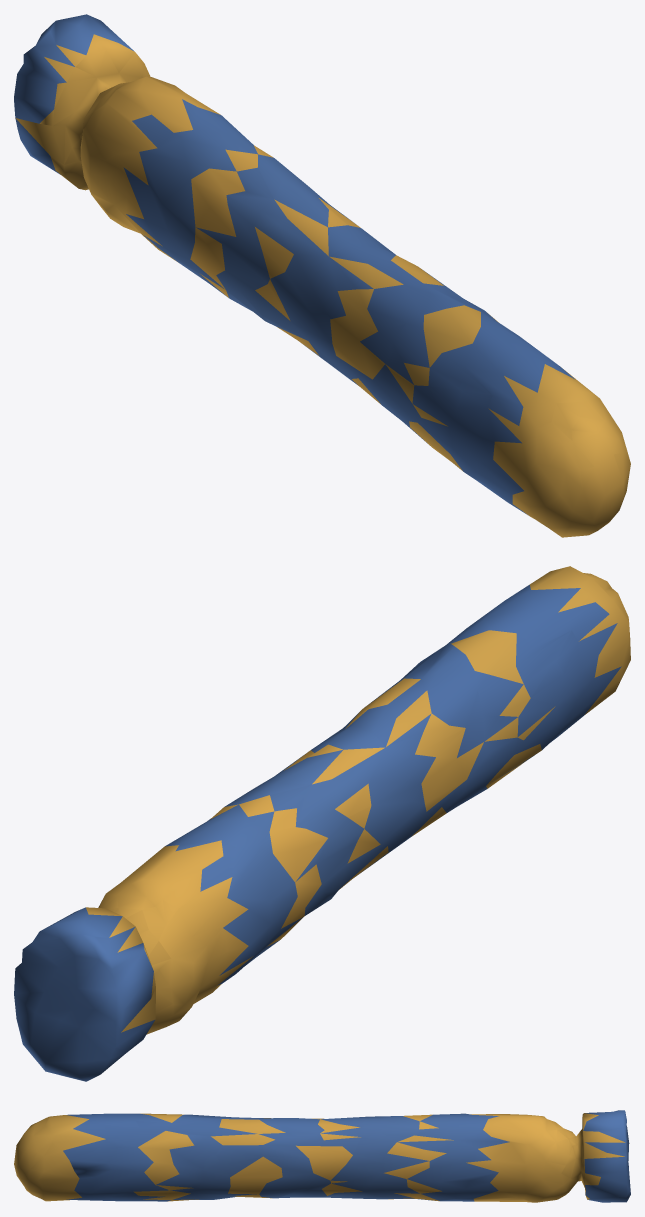
File: den_sock_b_lod2.glb
3 views of the same model, one above another, from view 1: azimuth 30°, elevation 25°; view 2: azimuth 150°, elevation 25°; view 3: azimuth 270°, elevation 25° (orthographic). The views are drawn at different scales.
Parts seen in each view (by area): view 1: den_sock_b.001; view 2: den_sock_b.001; view 3: den_sock_b.001.
Part boxes in pixels (x1,y1,x2,y2): den_sock_b.001: (14,14,630,537); den_sock_b.001: (14,566,630,1081); den_sock_b.001: (14,1110,630,1202).
Bounding box in the file's own units: 2.81 × 3.63 × 23.81.
